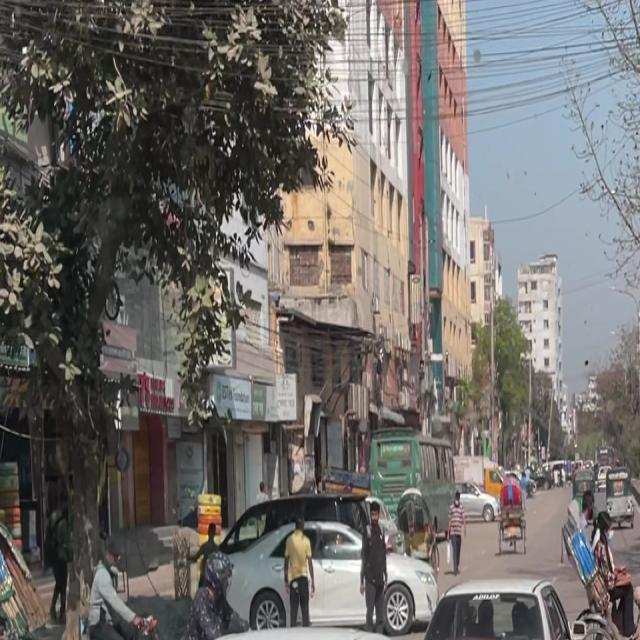car: (205, 514, 439, 634), (421, 569, 587, 640), (36, 620, 462, 640), (434, 627, 640, 640)
